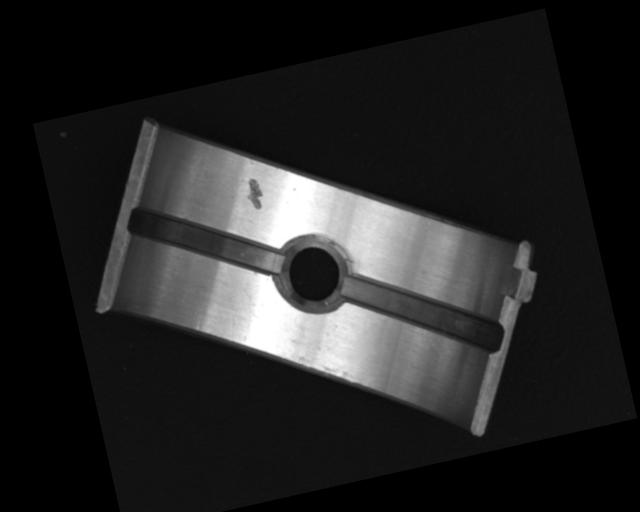bruise: (242, 175, 267, 212)
gap: (340, 244, 504, 380), (125, 177, 285, 301)
hole: (273, 227, 352, 316)
